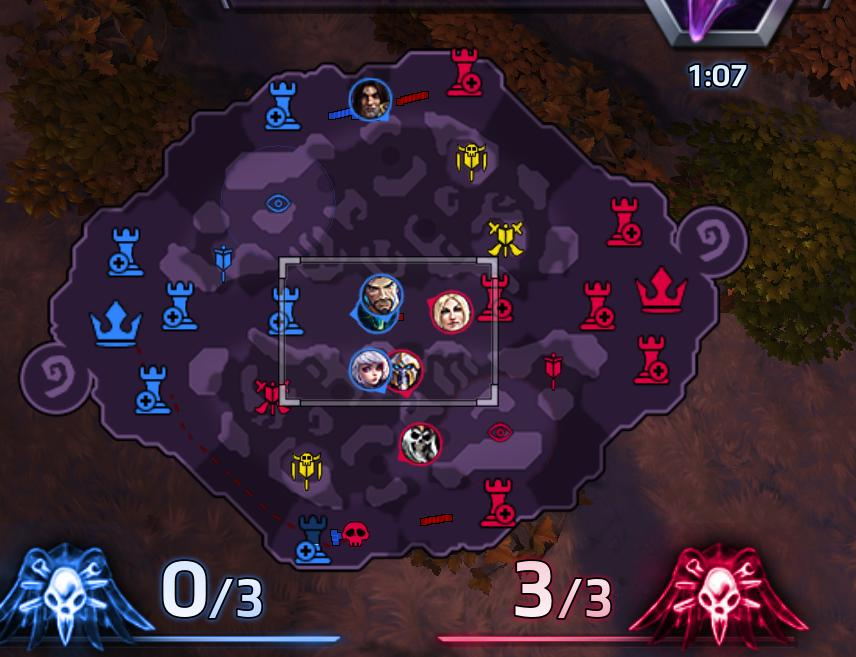blue nexus: (83, 299, 151, 353)
blue player: (348, 77, 392, 123), (347, 347, 391, 393)
blue tower: (293, 512, 332, 566), (266, 282, 304, 337), (133, 362, 172, 415), (263, 79, 302, 131), (160, 278, 198, 331), (107, 224, 145, 277)
red nexus: (634, 264, 688, 314)
red player: (428, 289, 473, 335), (398, 421, 441, 467), (385, 349, 423, 397)
red tower: (476, 471, 528, 532), (632, 333, 670, 386), (578, 279, 616, 331), (605, 196, 643, 247), (446, 46, 483, 98), (476, 272, 513, 323)
